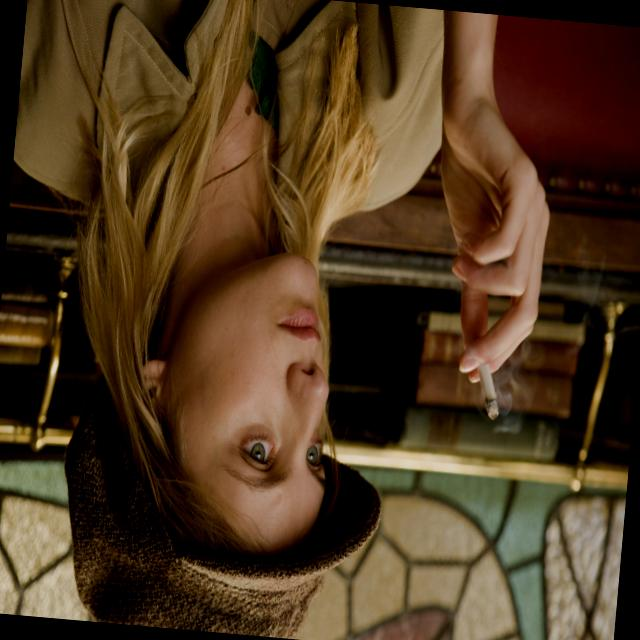cigarette: (472, 370, 505, 427)
